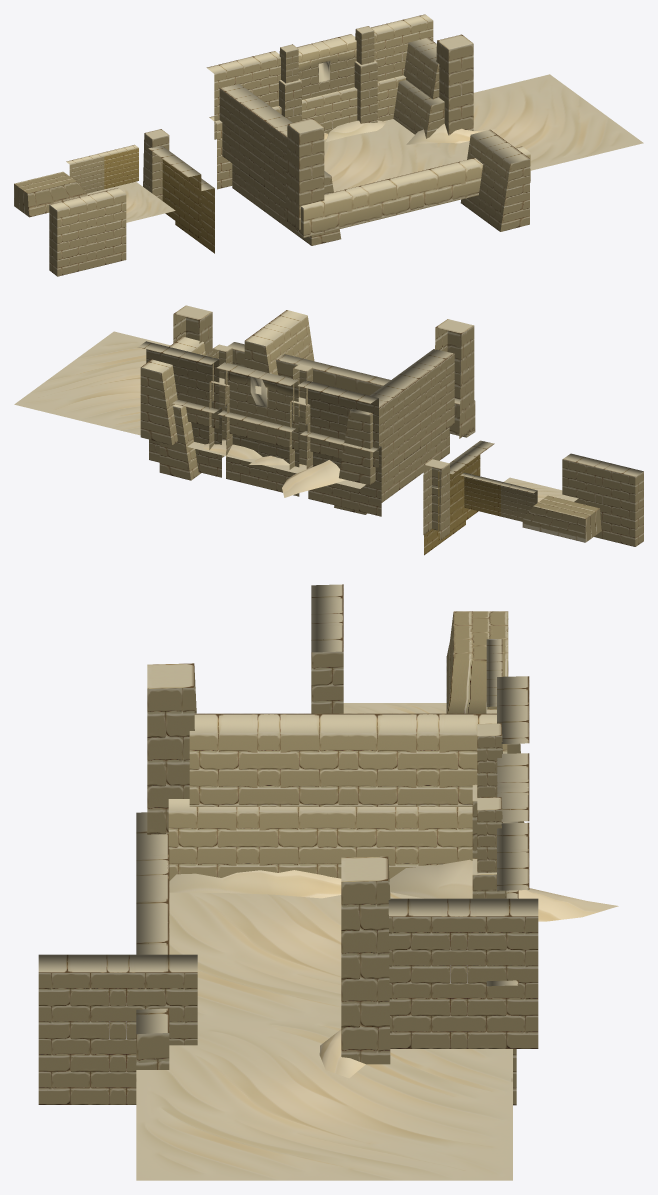
Rendered from lvl1_test.obj.
3 views of the same model, one above another, from view 1: azimuth 30°, elevation 25°; view 2: azimuth 150°, elevation 25°; view 3: azimuth 270°, elevation 25° (orthographic). The views are drawn at different scales.
Parts seen in each view (by area): view 1: pPlane3, pPlane28, pPlane45, pPlane44, pPlane46, pPlane48, pPlane50, pPlane36, pPlane34, pPlane38, pPlane20, pPlane47 (+21 smaller); view 2: pPlane3, pPlane28, pPlane36, pPlane34, pPlane49, pPlane38, pPlane40, pPlane42, pPlane44, pPlane15, pPlane48, pPlane23 (+21 smaller); view 3: pPlane3, pPlane42, pPlane45, pPlane44, pPlane49, pPlane36, pPlane37, pPlane50, pPlane27, pPlane48, pPlane23, pPlane31 (+12 smaller).
Boxes of the visible parts, x1,y1,x2,y2 form: pPlane3: (427,74,643,170); pPlane28: (49,188,126,276); pPlane45: (324,119,453,192); pPlane44: (460,129,529,231); pPlane46: (295,174,417,237); pPlane48: (285,118,324,230); pPlane50: (436,34,473,135); pPlane36: (219,84,275,180); pPlane34: (297,34,356,99); pPlane38: (206,51,280,139); pPlane20: (148,146,201,239); pPlane47: (409,146,530,209); pPlane3: (14,331,261,435); pPlane28: (562,453,643,546); pPlane36: (339,380,412,485); pPlane34: (216,362,298,450); pPlane49: (392,349,454,454); pPlane38: (298,380,378,467); pPlane40: (138,341,219,428); pPlane42: (140,336,205,445); pPlane44: (244,310,314,375); pPlane15: (218,410,299,496); pPlane48: (435,319,474,438); pPlane23: (522,495,601,542); pPlane3: (136,1021,512,1180); pPlane42: (388,898,538,1048); pPlane45: (169,892,423,1021); pPlane44: (38,954,197,1104); pPlane49: (189,713,348,806); pPlane36: (348,713,507,806); pPlane37: (168,799,327,880); pPlane50: (341,856,390,1064); pPlane27: (327,807,472,878); pPlane48: (147,663,196,834); pPlane23: (446,611,508,713); pPlane31: (389,859,618,921).
Bounding box in the file's own units: 183 × 48.02 × 84.78.
3 materials, 3 textured.
